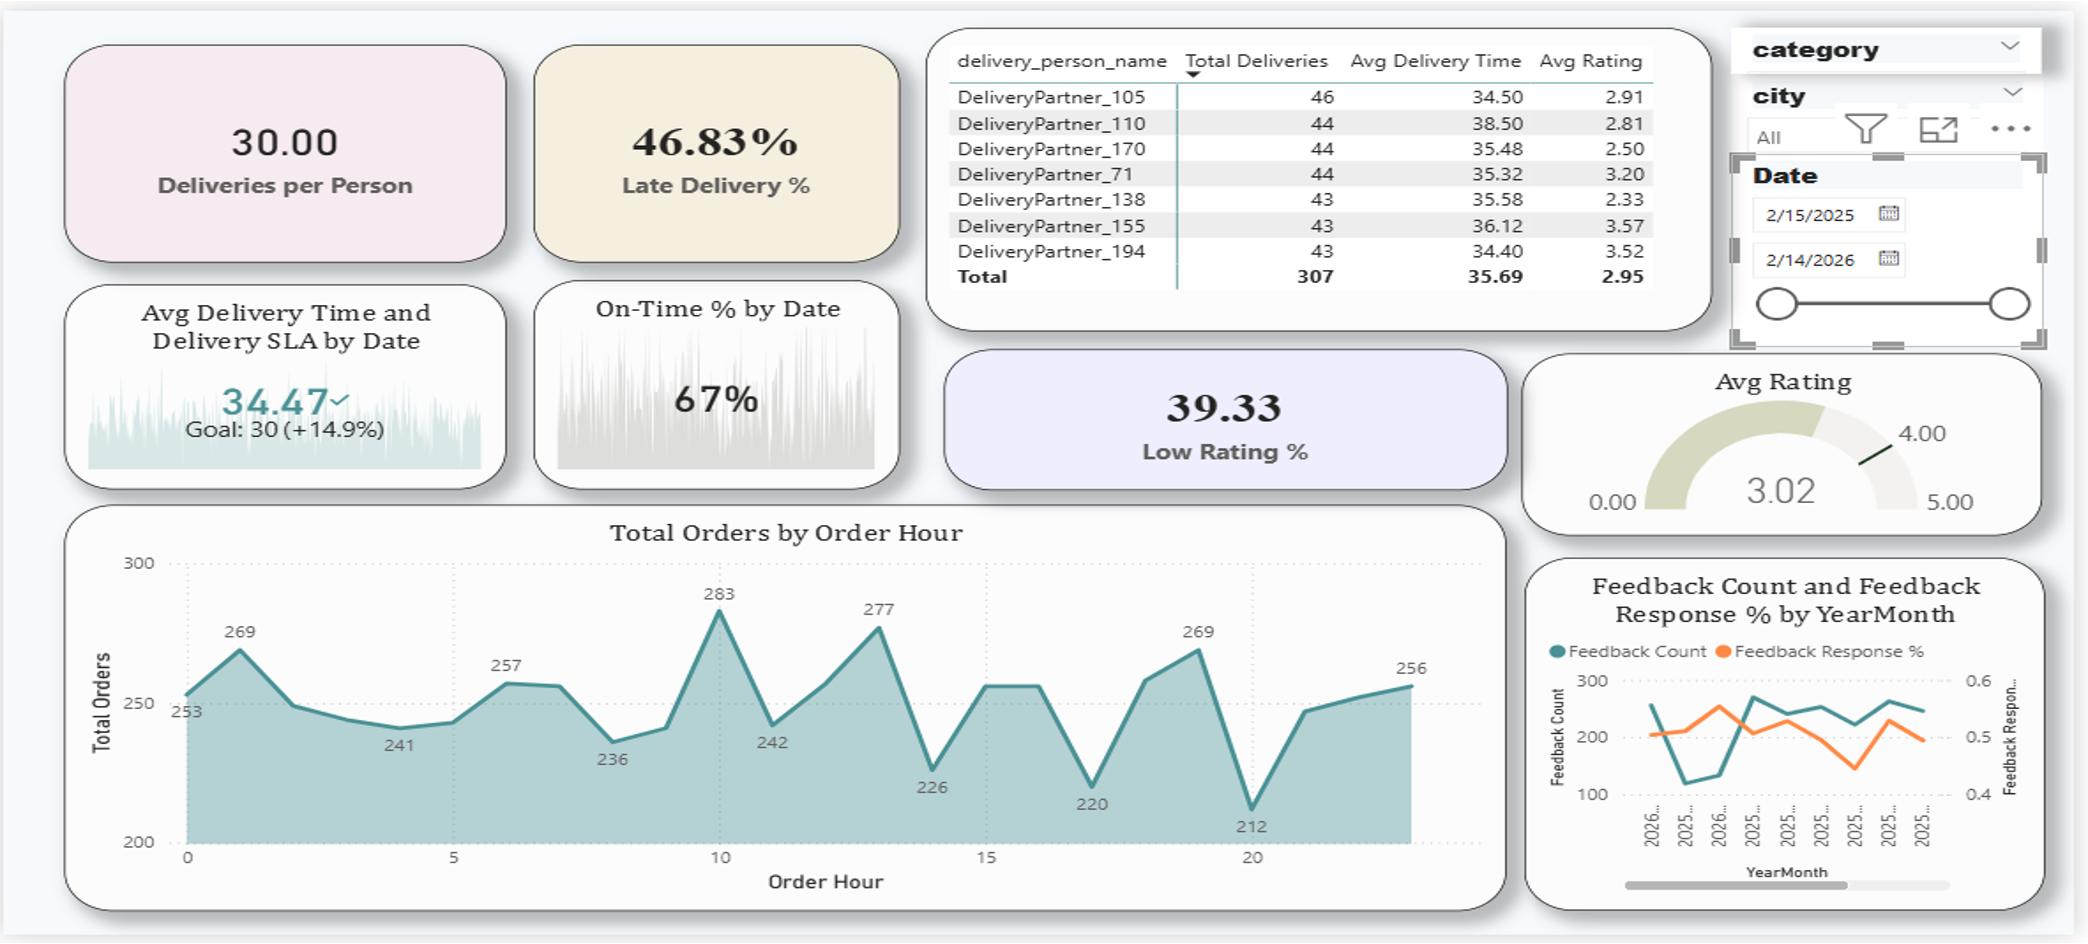

This screenshot's page, from the dashboard's own definition file:
{"tool":"powerbi","page":{"name":"Delivery & Operation","canvas":[1280,720],"ordinal":3},"visuals":[{"type":"slicer","fields":{"Values":["customers.city"]},"box":[1068.9,49.2,193.4,62.3],"z":0},{"type":"slicer","fields":{"Values":["Date_Table.Date"]},"box":[1068.9,111.5,193.4,150.8],"z":1000},{"type":"kpi","fields":{"TrendLine":["Date_Table.Date"],"Indicator":["Measure.Avg Delivery Time"],"Goal":["Measure.Delivery SLA"]},"box":[38.3,213.3,273.3,160],"z":2000},{"type":"kpi","fields":{"Indicator":["Measure.On-Time %"],"TrendLine":["Date_Table.Date"]},"box":[328.3,210,226.7,163.3],"z":3000},{"type":"card","fields":{"Values":["Measure.Late Delivery %"]},"box":[328.3,26.7,226.7,170],"z":4000},{"type":"card","fields":{"Values":["Measure.Deliveries per Person"]},"box":[38.3,26.7,273.3,170],"z":5000},{"type":"areaChart","fields":{"Y":["Measure.Total Orders"],"Category":["orders.Order Hour"]},"box":[38.3,385,891.7,316.7],"z":6000},{"type":"pivotTable","fields":{"Rows":["delivery_person.delivery_person_name"],"Values":["Measure.Total Deliveries","Measure.Avg Delivery Time","Measure.Avg Rating"]},"box":[570,13.3,486.7,236.7],"z":7000},{"type":"gauge","fields":{"Y":["Measure.Avg Rating"]},"box":[940,266.7,321.7,141.7],"z":8000},{"type":"lineChart","fields":{"Category":["Date_Table.YearMonth"],"Y":["Measure.Feedback Count"],"Y2":["Measure.Feedback Response %"]},"box":[941.7,426.7,321.7,275],"z":9000},{"type":"card","fields":{"Values":["Measure.Low Rating %"]},"box":[581.7,263.3,348.3,110],"z":10000},{"type":"slicer","fields":{"Values":["products.category"]},"box":[1068.9,13.1,191.8,36.1],"z":11000}]}

Visuals, with their boxes on the page's 1280x720 design canvas (x1, y1, x2, y2). These are canvas units, not pixel positions in the 2088x944 screenshot, which may show the page scaled, cropped or inside an application window:
slicer - customers.city: Rect(1069, 49, 1262, 112)
slicer - Date_Table.Date: Rect(1069, 112, 1262, 262)
kpi - Date_Table.Date x Measure.Avg Delivery Time: Rect(38, 213, 312, 373)
kpi - Measure.On-Time % x Date_Table.Date: Rect(328, 210, 555, 373)
card - Measure.Late Delivery %: Rect(328, 27, 555, 197)
card - Measure.Deliveries per Person: Rect(38, 27, 312, 197)
areaChart - Measure.Total Orders x orders.Order Hour: Rect(38, 385, 930, 702)
pivotTable - delivery_person.delivery_person_name x Measure.Total Deliveries: Rect(570, 13, 1057, 250)
gauge - Measure.Avg Rating: Rect(940, 267, 1262, 408)
lineChart - Date_Table.YearMonth x Measure.Feedback Count: Rect(942, 427, 1263, 702)
card - Measure.Low Rating %: Rect(582, 263, 930, 373)
slicer - products.category: Rect(1069, 13, 1261, 49)
